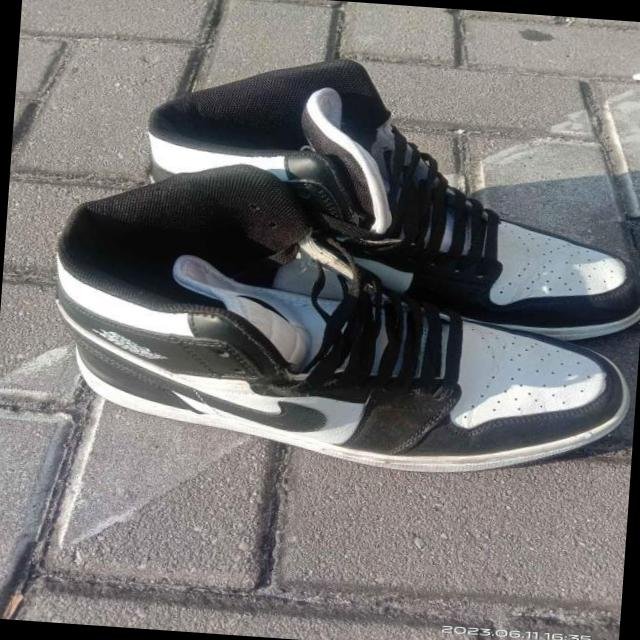nike_fake_jordan: (37, 147, 640, 487), (129, 43, 640, 345)
